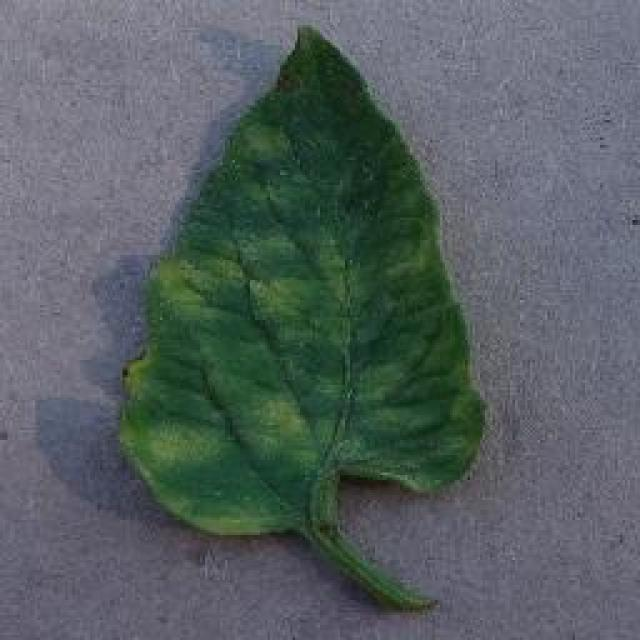Tomato mold leaf: (114, 26, 488, 536)
